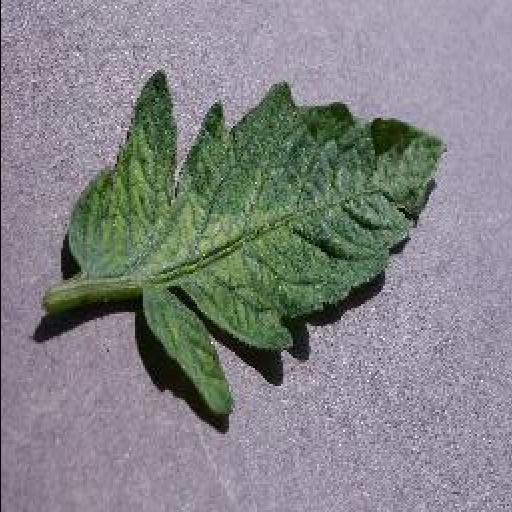disease_tomato: (62, 66, 446, 414)
